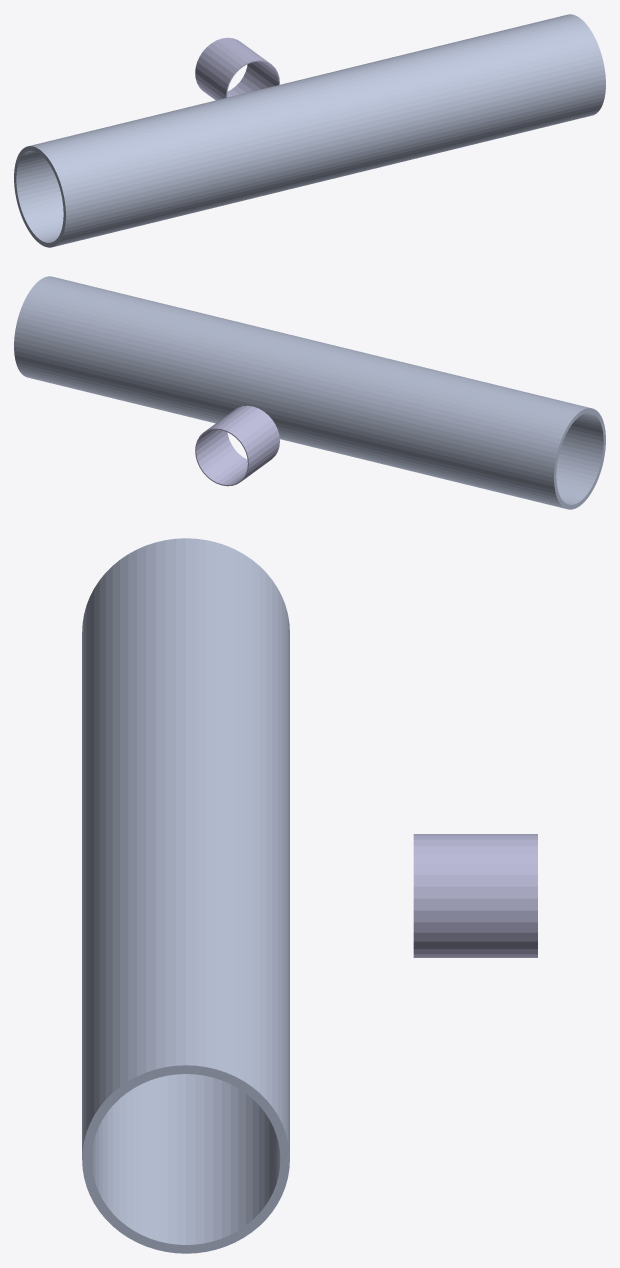
File: plantilla_corte_boca_pez.glb
The picture shows the model from 3 angles, top to bottom: view 1: azimuth 30°, elevation 25°; view 2: azimuth 150°, elevation 25°; view 3: azimuth 270°, elevation 25°; orthographic projection. The views are drawn at different scales.
Parts seen in each view (by area): view 1: world; view 2: world; view 3: world.
Boxes of the visible parts, <box> form: world: <box>14,14,605,247</box>; world: <box>14,276,605,509</box>; world: <box>82,538,537,1253</box>.
Size of the model in its own units: 522 by 87 by 191.
